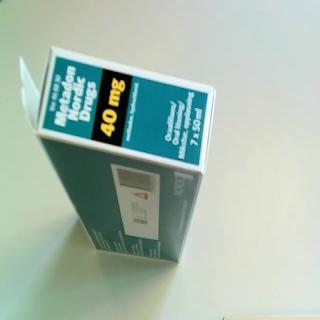metadon_hydrochlorid40mg: (19, 43, 219, 269)
